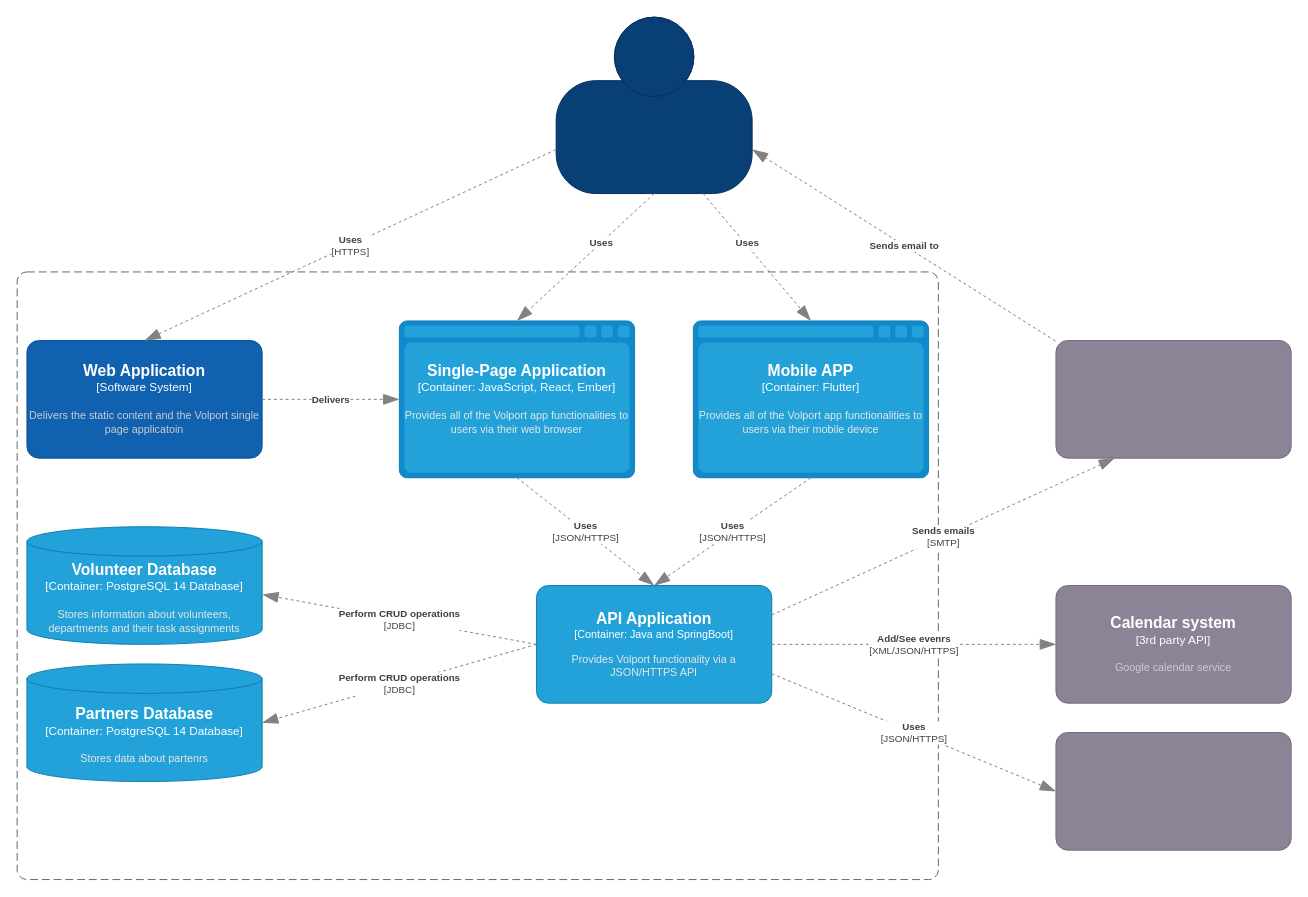
The diagram is 1308 pixels wide and 897 high, and some of its shapes have lost their labels. Here are the shapes that lost their labels. From the top down, the box of each, then its label:
(555, 16, 752, 194): Volport Consumer [Person] A person that uses Volport application
(1055, 340, 1291, 458): E-mail system [3rd party API] Google email service
(16, 271, 938, 880): Volport App [Software System]
(1055, 732, 1291, 850): OAuth authentication [3rd party API] External authentication service
